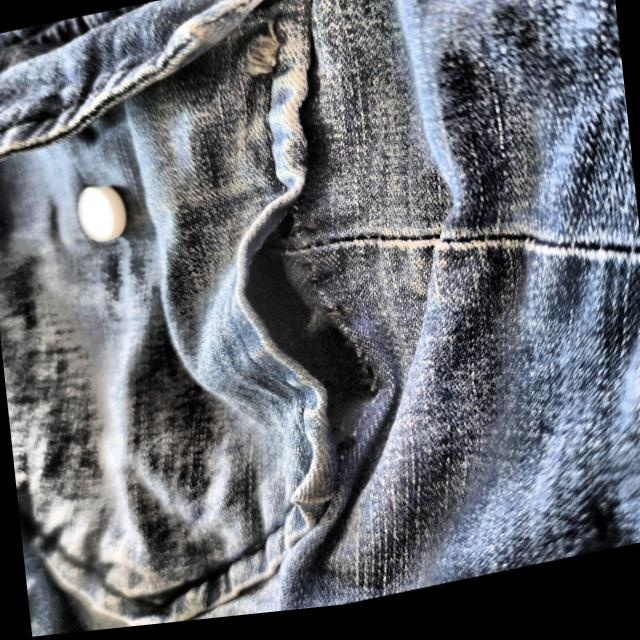seam: (201, 151, 403, 506)
